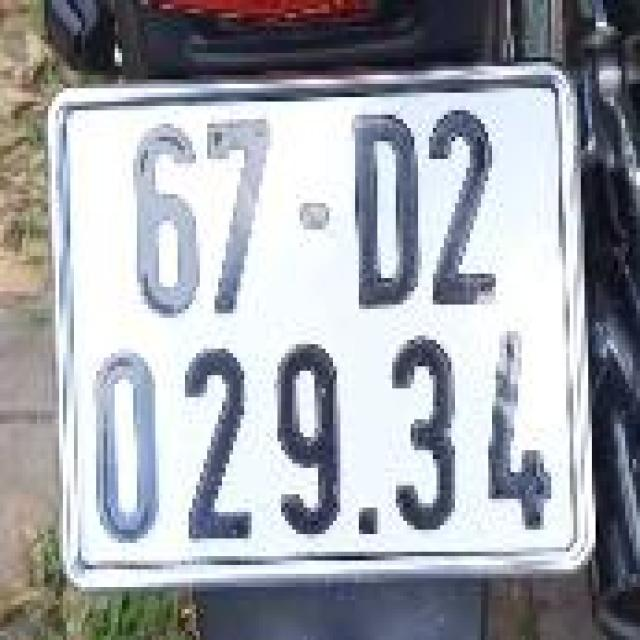0: (80, 329, 168, 558)
2: (425, 95, 507, 315), (176, 338, 257, 550)
3: (379, 318, 464, 543)
4: (469, 320, 558, 554)
6: (124, 99, 202, 320)
7: (200, 110, 274, 322)
9: (266, 340, 348, 547)
D: (336, 104, 426, 316)
